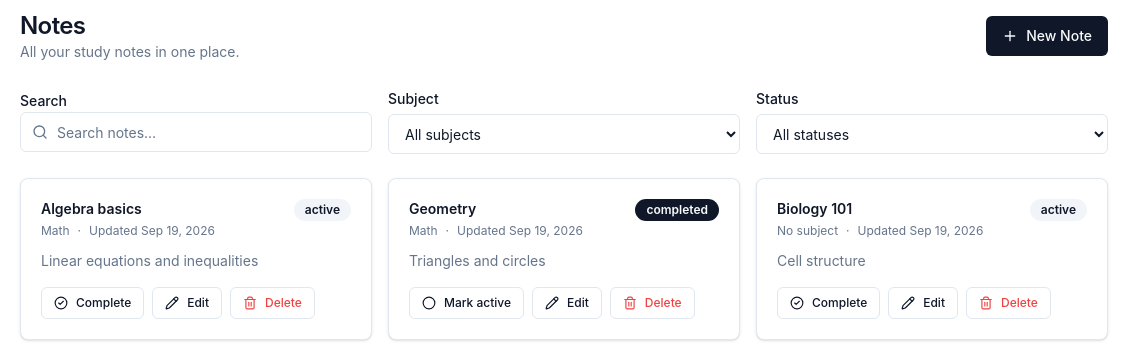
Search and filters › filters notes by search term with debounce
This screenshot has width=1125, height=358.
Type "algebra" into the search field with placeholder "Search notes…".
click(196, 132); type("algebra")  # box [20, 112, 372, 152]
Wait 300 ms
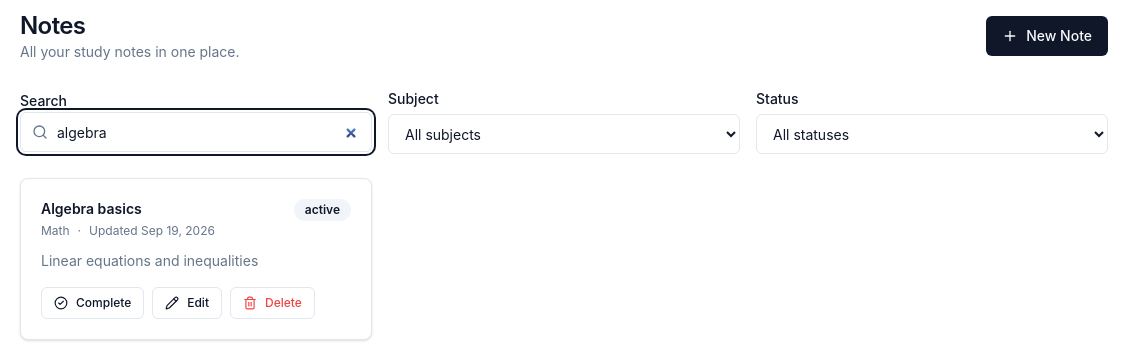
Expected: the link "Algebra basics" is shown, [41, 200, 142, 217]
Now the link "Geometry" is gone
Now the link "Biology 101" is gone
